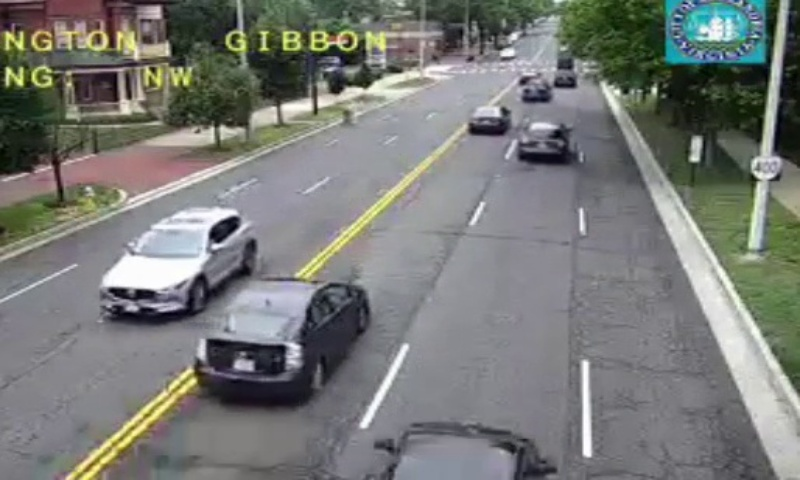car: (194, 278, 368, 394), (516, 122, 568, 159), (466, 106, 508, 133)
